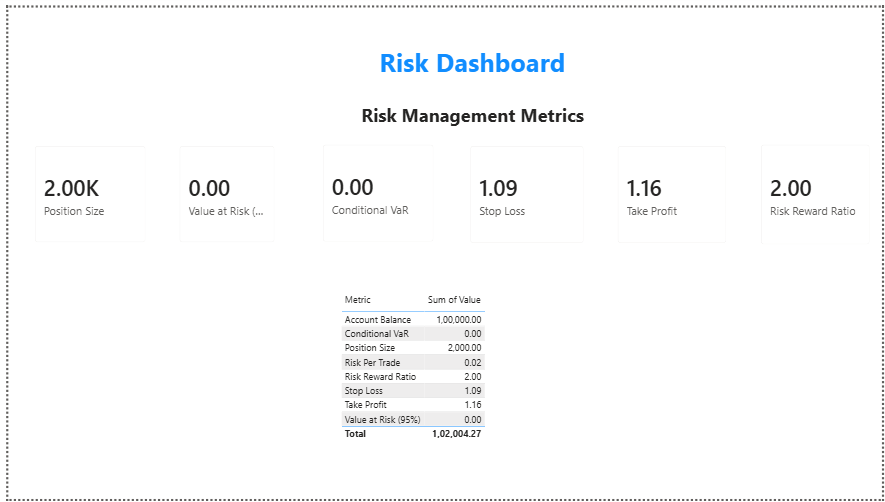

This screenshot's page, from the dashboard's own definition file:
{"tool":"powerbi","page":{"name":"Risk Dashboard","canvas":[1280,720],"ordinal":2},"visuals":[{"type":"textbox","box":[446,0,528,186],"z":0},{"type":"tableEx","fields":{"Values":["risk_summary.Metric","Sum(risk_summary.Value)"]},"box":[481.7,411.7,233.3,236.7],"z":1000},{"type":"cardVisual","fields":{"Data":["Sum(risk_summary.Value)"]},"box":[21.7,185,196.7,175],"z":2000},{"type":"cardVisual","fields":{"Data":["Sum(risk_summary.Value)"]},"box":[233.3,186.7,173.3,175],"z":3000},{"type":"cardVisual","fields":{"Data":["Sum(risk_summary.Value)"]},"box":[660,186.7,200,176.7],"z":4000},{"type":"cardVisual","fields":{"Data":["Sum(risk_summary.Value)"]},"box":[443.3,183.3,196.7,176.7],"z":5000},{"type":"cardVisual","fields":{"Data":["Sum(risk_summary.Value)"]},"box":[876.7,186.7,193.3,176.7],"z":6000},{"type":"cardVisual","fields":{"Data":["Sum(risk_summary.Value)"]},"box":[1086.7,183.3,193.3,180],"z":7000}]}

Visuals, with their boxes in screenshot pixels (x1, y1, x2, y2), scaled from the page's 1280x720 canvas onto the 885x502 screenshot:
textbox: (308, 0, 673, 130)
tableEx - risk_summary.Metric x Sum(risk_summary.Value): (333, 287, 494, 452)
cardVisual - Sum(risk_summary.Value): (15, 129, 151, 251)
cardVisual - Sum(risk_summary.Value): (161, 130, 281, 252)
cardVisual - Sum(risk_summary.Value): (456, 130, 595, 253)
cardVisual - Sum(risk_summary.Value): (307, 128, 442, 251)
cardVisual - Sum(risk_summary.Value): (606, 130, 740, 253)
cardVisual - Sum(risk_summary.Value): (751, 128, 884, 253)
